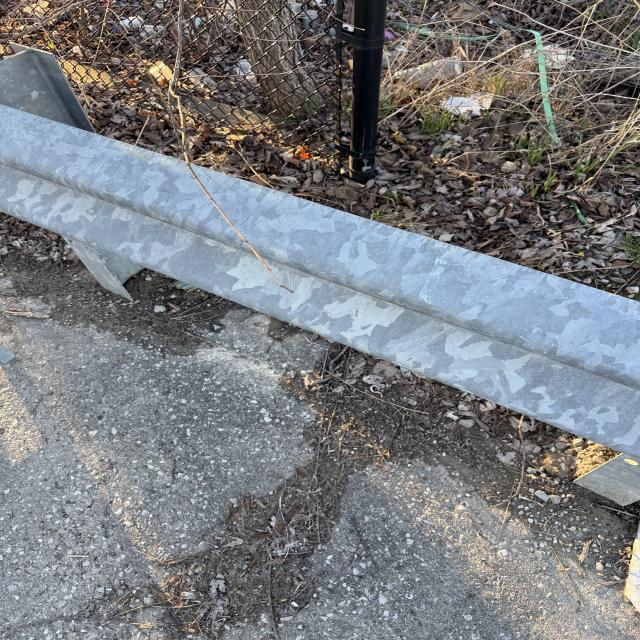Guard rail: (1, 86, 602, 402)
